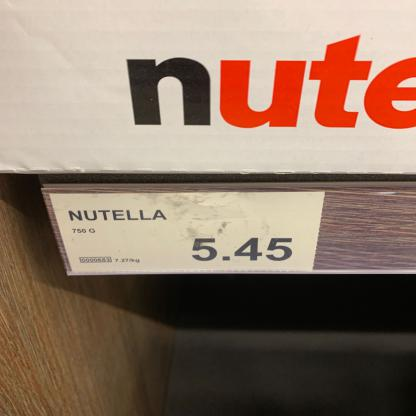prtg: (49, 192, 327, 273)
